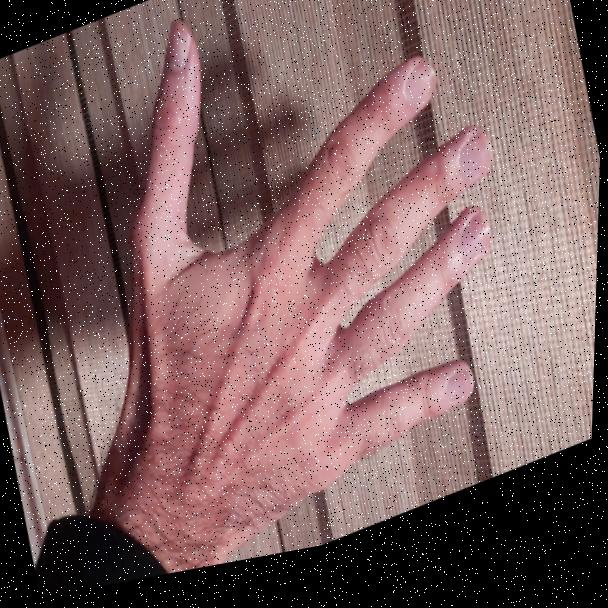five: (43, 0, 559, 581)
